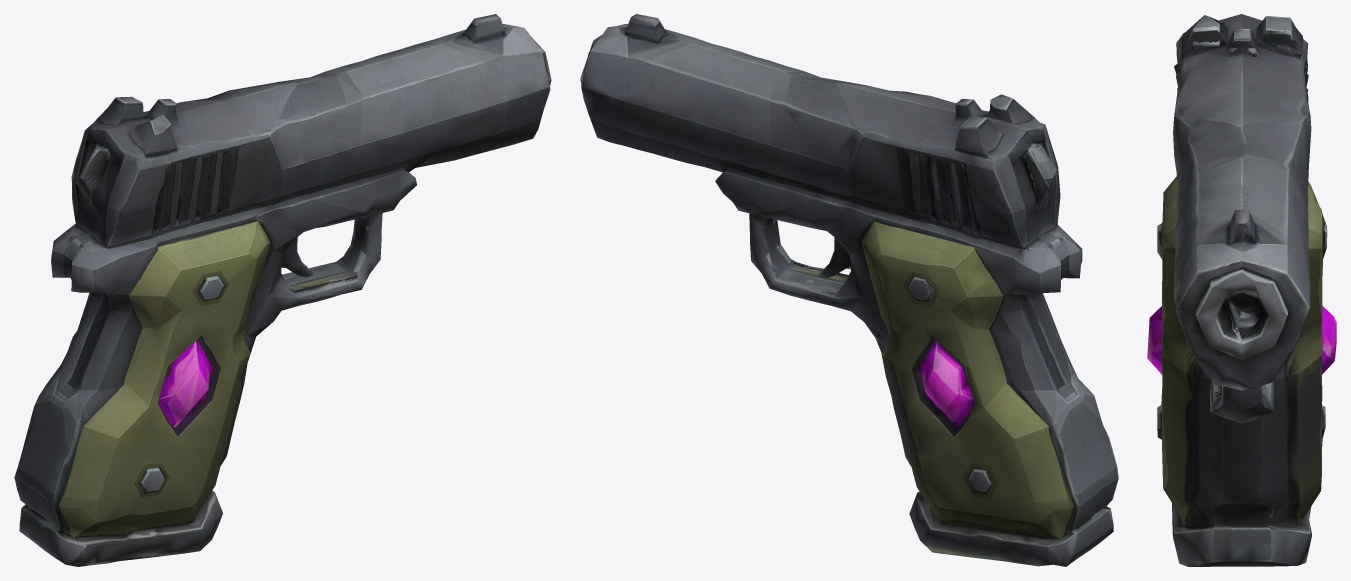
File: Pistol.fbx
3 renders of one model, left to right at view 1: azimuth 30°, elevation 25°; view 2: azimuth 150°, elevation 25°; view 3: azimuth 270°, elevation 25°, orthographic. The views are drawn at different scales.
Parts seen in each view (by area): view 1: texture_mapping; view 2: texture_mapping; view 3: texture_mapping.
Part boxes in pixels (x1,y1,x2,y2): texture_mapping: [14, 14, 551, 566]; texture_mapping: [580, 14, 1118, 566]; texture_mapping: [1147, 14, 1336, 566].
Size of the model in its own units: 1 by 0.2707 by 0.8394.
Materials: 1 (1 with a texture image).
